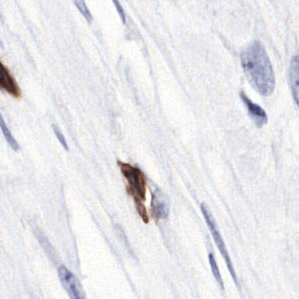Lymphocyte: (115, 155, 154, 223)
